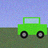vehicle: (18, 17, 47, 38)
